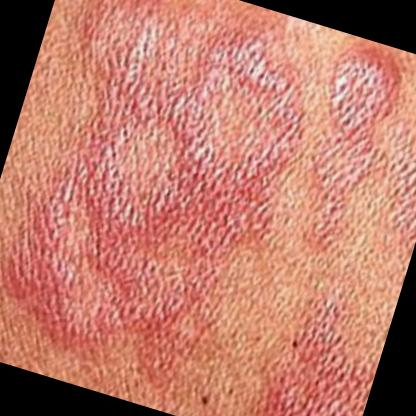Leprosy: (0, 0, 327, 394), (276, 38, 416, 247), (226, 268, 396, 416), (358, 112, 416, 267)
